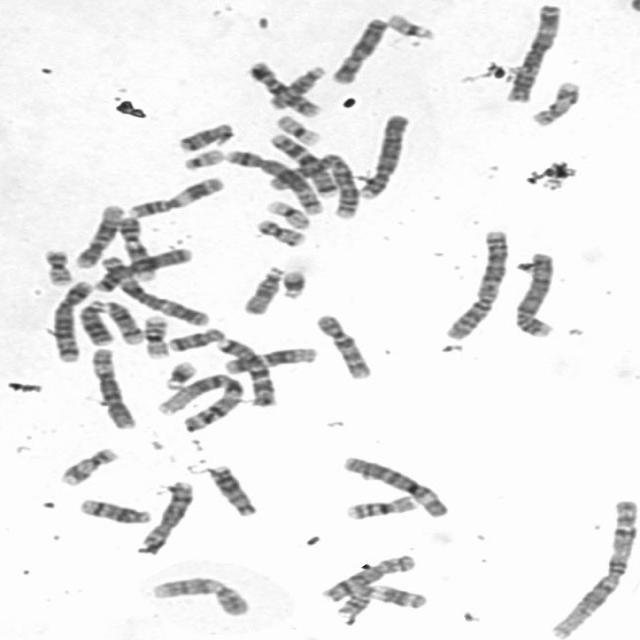A1: (544, 495, 638, 639), (152, 370, 247, 432)
A2: (439, 225, 514, 342), (266, 150, 361, 221)
A3: (93, 251, 211, 327), (501, 0, 566, 103)
B4: (354, 109, 414, 201), (510, 248, 560, 339)
B5: (221, 144, 326, 216), (47, 276, 97, 364)
C10: (245, 57, 325, 119), (309, 308, 375, 381)
C11: (124, 172, 229, 219), (331, 580, 431, 616)
C12: (70, 200, 126, 269), (220, 344, 320, 376)
C6: (336, 451, 452, 520), (85, 342, 140, 430)
C7: (264, 129, 339, 198), (212, 333, 280, 408)
C8: (316, 550, 419, 603), (134, 476, 197, 553)
C9: (146, 572, 254, 617), (111, 212, 160, 282)
D13: (201, 460, 260, 518), (74, 296, 116, 346)
D14: (92, 296, 147, 346), (72, 494, 154, 526)
D15: (263, 62, 329, 110), (237, 262, 286, 316)
E16: (339, 491, 420, 522), (138, 311, 173, 359)
E17: (53, 443, 121, 488), (526, 76, 584, 128)
E18: (171, 118, 236, 153), (162, 323, 226, 353)
F19: (270, 110, 325, 147), (261, 196, 314, 230)
F20: (250, 214, 310, 247), (39, 245, 76, 287)
G21: (158, 356, 200, 390), (276, 266, 309, 300)
G22: (383, 10, 439, 40), (178, 144, 228, 171)
X: (92, 244, 195, 294), (326, 13, 392, 85)
